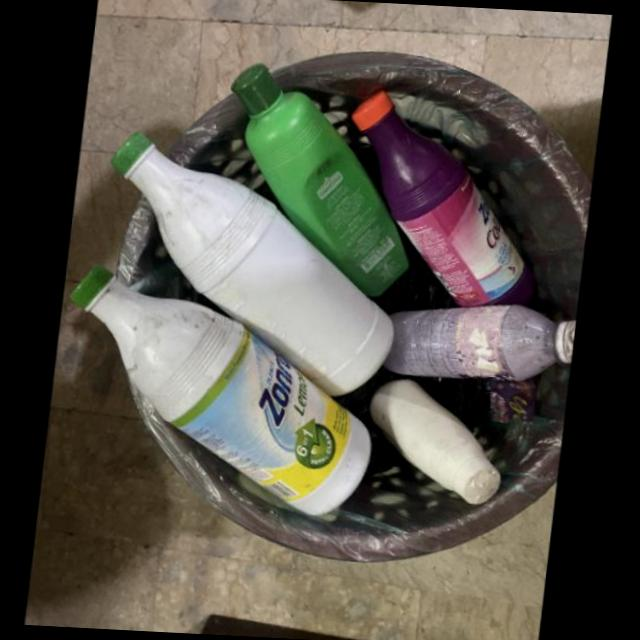chai_nhua: (71, 265, 373, 517), (112, 133, 396, 399), (233, 64, 412, 299), (353, 93, 537, 309), (369, 379, 502, 508), (383, 307, 577, 384)
